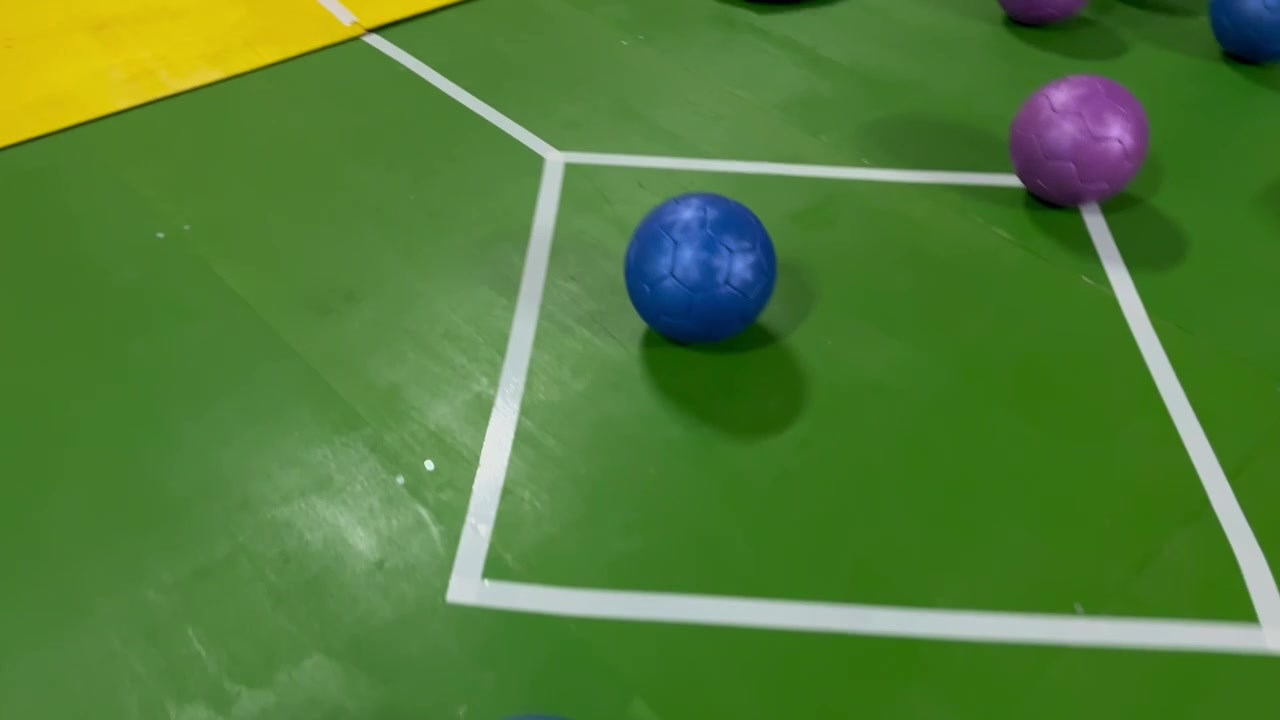blue: (614, 177, 784, 358)
